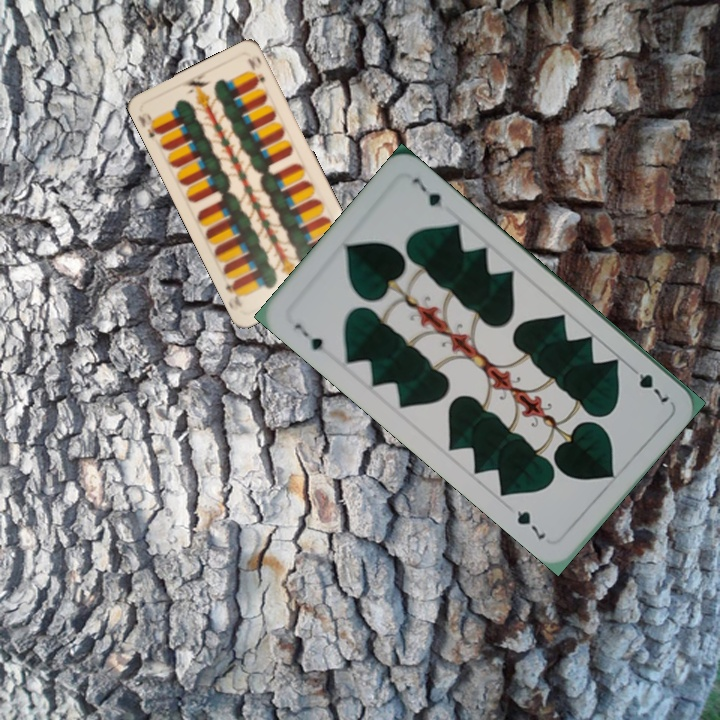E10: (134, 108, 165, 140)
G7: (625, 361, 672, 406), (290, 319, 326, 353)
